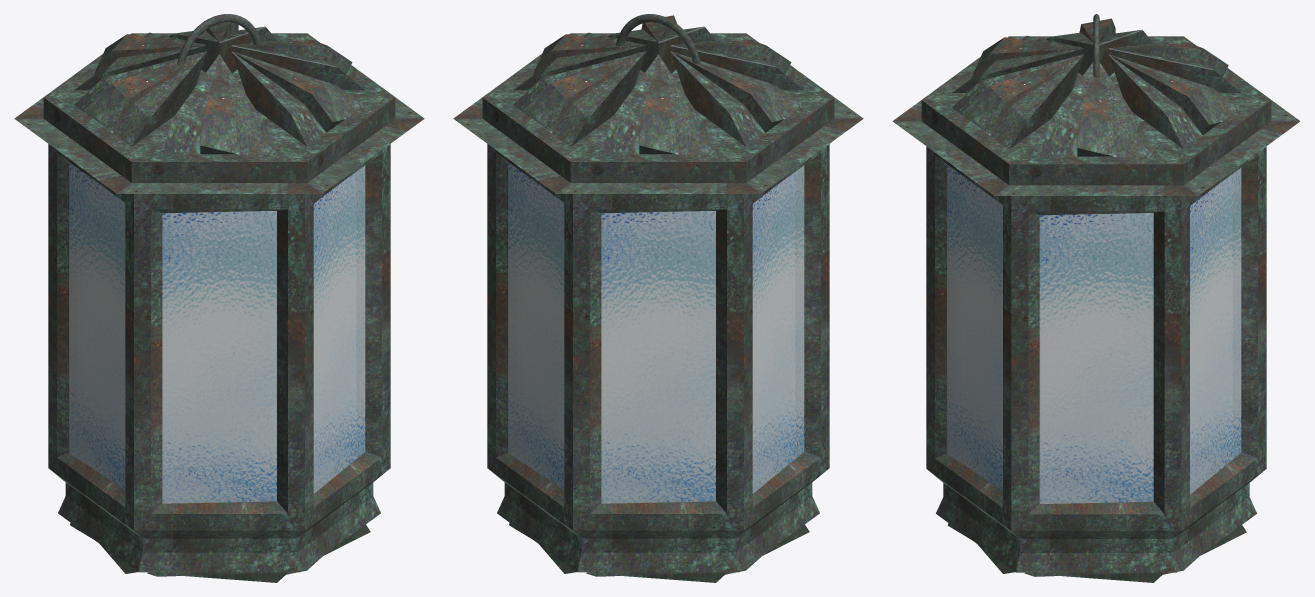
File: Lantern.fbx
3 renders of one model, left to right at view 1: azimuth 30°, elevation 25°; view 2: azimuth 150°, elevation 25°; view 3: azimuth 270°, elevation 25°, orthographic.
Visible parts, largest first — view 1: Lantern.001, handle; view 2: Lantern.001, handle; view 3: Lantern.001.
Part boxes in pixels (<box>): Lantern.001: <box>14,21,424,582</box>; handle: <box>177,14,261,65</box>; Lantern.001: <box>453,15,863,582</box>; handle: <box>616,14,700,64</box>; Lantern.001: <box>892,18,1300,582</box>.
Size of the model in its own units: 229 by 360 by 264.
2 materials, 2 textured.
